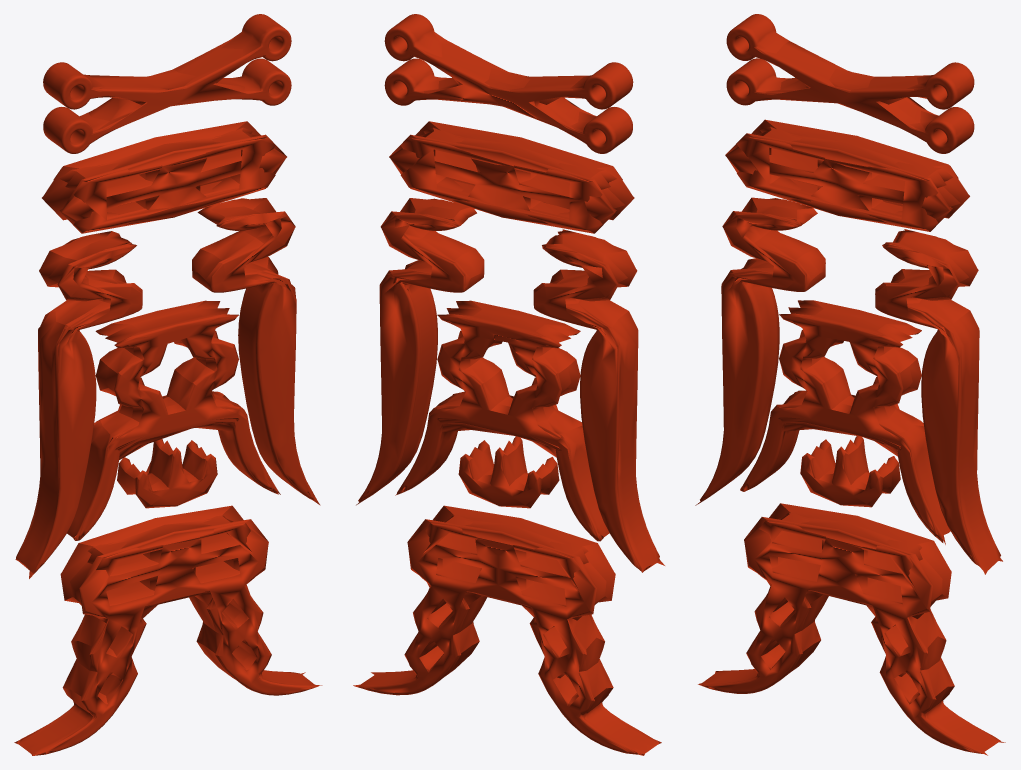
File: talisman.gltf
3 renders of one model, left to right at view 1: azimuth 30°, elevation 25°; view 2: azimuth 150°, elevation 25°; view 3: azimuth 330°, elevation 25°, orthographic.
Visible parts, largest first — view 1: Body7, Body1, Body6, Body3, Body5, Body2, Body4; view 2: Body7, Body1, Body6, Body3, Body5, Body2, Body4; view 3: Body7, Body1, Body3, Body6, Body5, Body2, Body4.
Boxes of the visible parts, <box> form: Body7: <box>14,505,322,755</box>; Body1: <box>67,300,280,540</box>; Body6: <box>15,231,142,578</box>; Body3: <box>192,198,320,505</box>; Body5: <box>42,121,286,233</box>; Body2: <box>43,14,291,153</box>; Body4: <box>117,439,217,508</box>; Body7: <box>353,505,661,755</box>; Body1: <box>395,300,609,541</box>; Body6: <box>533,229,664,572</box>; Body3: <box>356,198,484,505</box>; Body5: <box>389,121,634,233</box>; Body2: <box>384,14,633,153</box>; Body4: <box>458,436,559,508</box>; Body7: <box>698,503,1005,755</box>; Body1: <box>740,300,950,544</box>; Body3: <box>875,229,1002,574</box>; Body6: <box>695,197,825,505</box>; Body5: <box>725,119,969,231</box>; Body2: <box>726,14,974,153</box>; Body4: <box>800,436,900,507</box>.
Size of the model in its own units: 0.1335 by 0.29 by 0.016.
